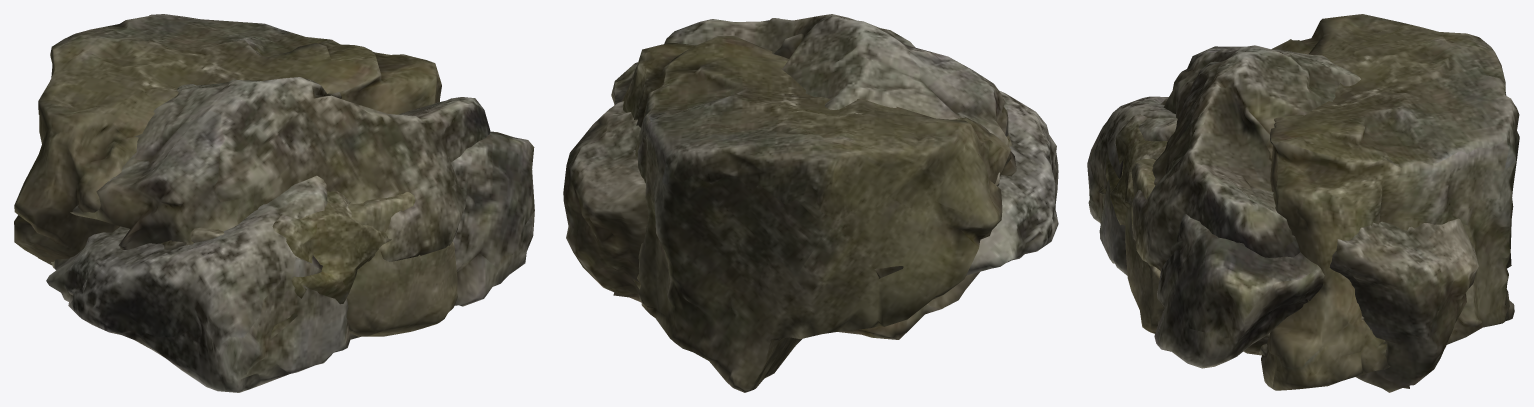
The model's file is rock_moss_set_02.glb.
The picture shows the model from 3 angles, left to right: view 1: azimuth 30°, elevation 25°; view 2: azimuth 150°, elevation 25°; view 3: azimuth 270°, elevation 25°; orthographic projection. The views are drawn at different scales.
Parts seen in each view (by area): view 1: rock_moss_set_02_rock10_lod0, rock_moss_set_02_rock11_lod0, rock_moss_set_02_rock13_lod0, rock_moss_set_02_rock07_lod0, rock_moss_set_02_rock12_lod0; view 2: rock_moss_set_02_rock13_lod0, rock_moss_set_02_rock11_lod0, rock_moss_set_02_rock10_lod0; view 3: rock_moss_set_02_rock13_lod0, rock_moss_set_02_rock11_lod0, rock_moss_set_02_rock10_lod0, rock_moss_set_02_rock07_lod0, rock_moss_set_02_rock12_lod0.
Part boxes in pixels (<box>): rock_moss_set_02_rock10_lod0: <box>46,131,534,392</box>; rock_moss_set_02_rock11_lod0: <box>70,77,490,261</box>; rock_moss_set_02_rock13_lod0: <box>14,14,441,265</box>; rock_moss_set_02_rock07_lod0: <box>346,192,457,336</box>; rock_moss_set_02_rock12_lod0: <box>161,191,391,339</box>; rock_moss_set_02_rock13_lod0: <box>622,36,1011,392</box>; rock_moss_set_02_rock11_lod0: <box>563,14,1016,339</box>; rock_moss_set_02_rock10_lod0: <box>611,62,1058,275</box>; rock_moss_set_02_rock13_lod0: <box>1261,14,1519,390</box>; rock_moss_set_02_rock11_lod0: <box>1131,45,1478,392</box>; rock_moss_set_02_rock10_lod0: <box>1087,96,1324,368</box>; rock_moss_set_02_rock07_lod0: <box>1125,159,1362,333</box>; rock_moss_set_02_rock12_lod0: <box>1098,98,1371,355</box>.
Size of what is drawn, in the model's own units: 2.22 by 1.37 by 1.9.
1 material, 1 textured.
